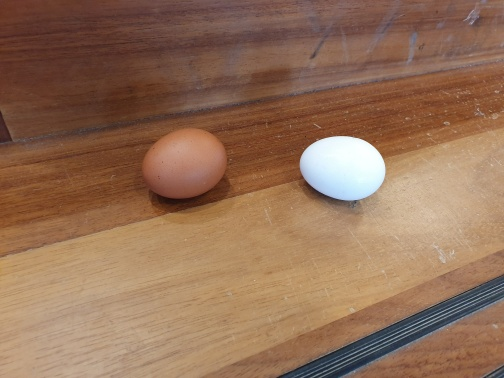egg: (139, 128, 228, 202), (299, 134, 387, 205)
